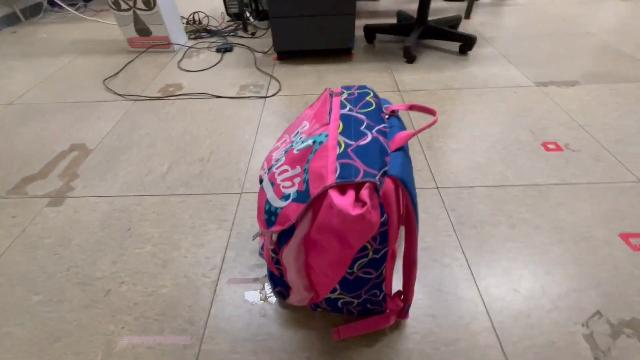Backpack: (244, 81, 443, 349)
